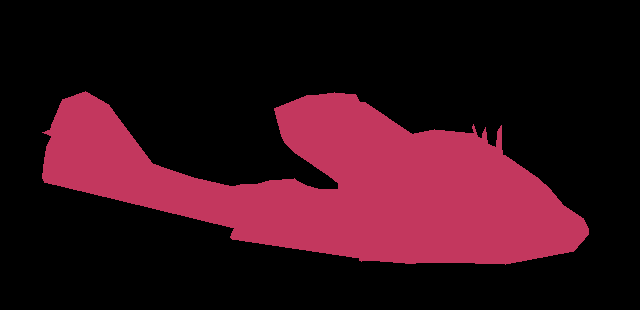Airplane: (42, 91, 588, 264)
